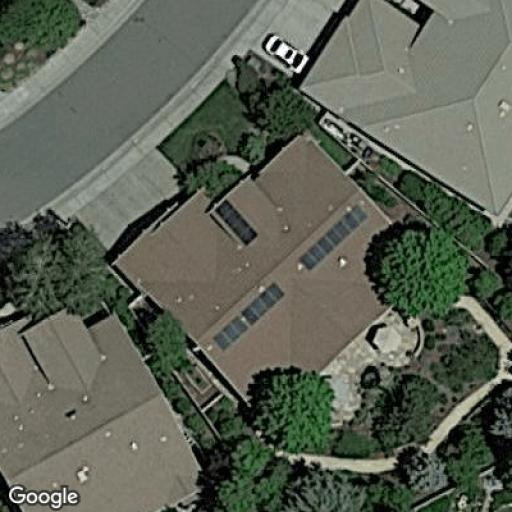solar-panel: (294, 201, 369, 271), (214, 282, 287, 351), (210, 194, 258, 246)
